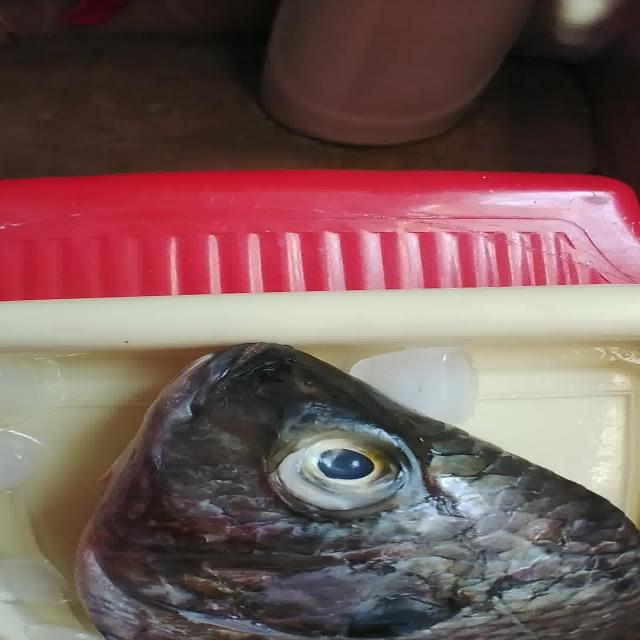Fresh: (267, 428, 464, 531)
